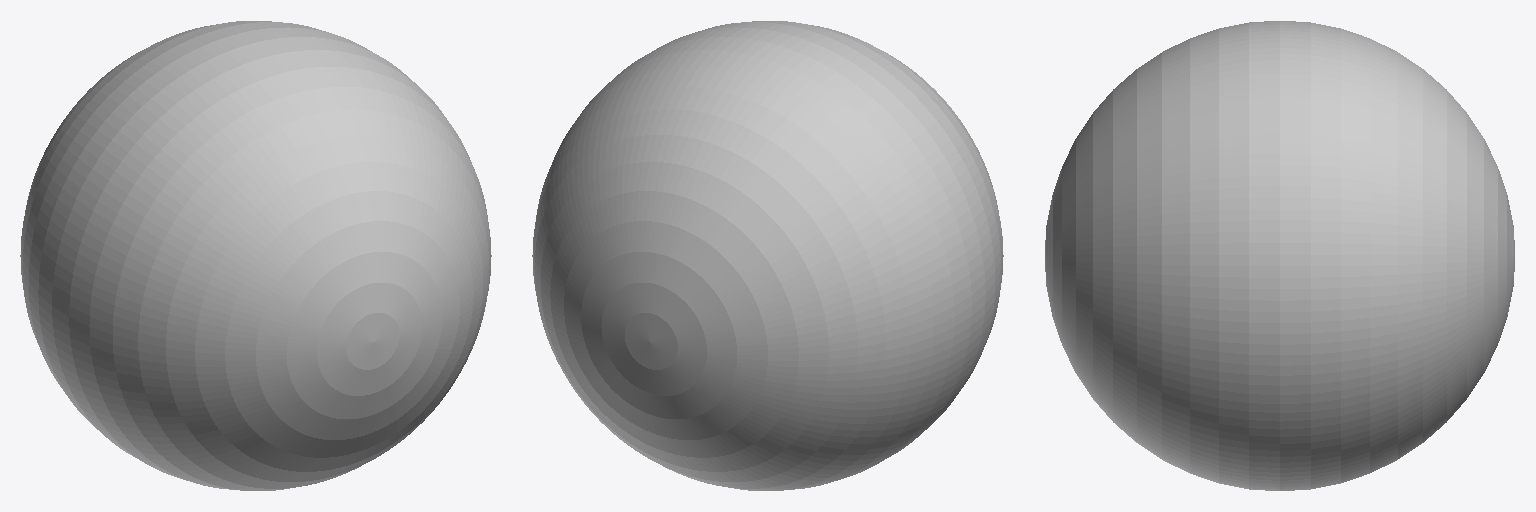
Rendered from moon.obj.
3 renders of one model, left to right at view 1: azimuth 30°, elevation 25°; view 2: azimuth 150°, elevation 25°; view 3: azimuth 270°, elevation 25°, orthographic.
Visible parts, largest first — view 1: Sphere_Sphere.006; view 2: Sphere_Sphere.006; view 3: Sphere_Sphere.006.
Boxes of the visible parts, box(x1,y1,x2,y2) form: Sphere_Sphere.006: box(20, 21, 491, 490); Sphere_Sphere.006: box(532, 21, 1003, 490); Sphere_Sphere.006: box(1045, 21, 1514, 490).
Bounding box in the file's own units: 2 × 2 × 2.